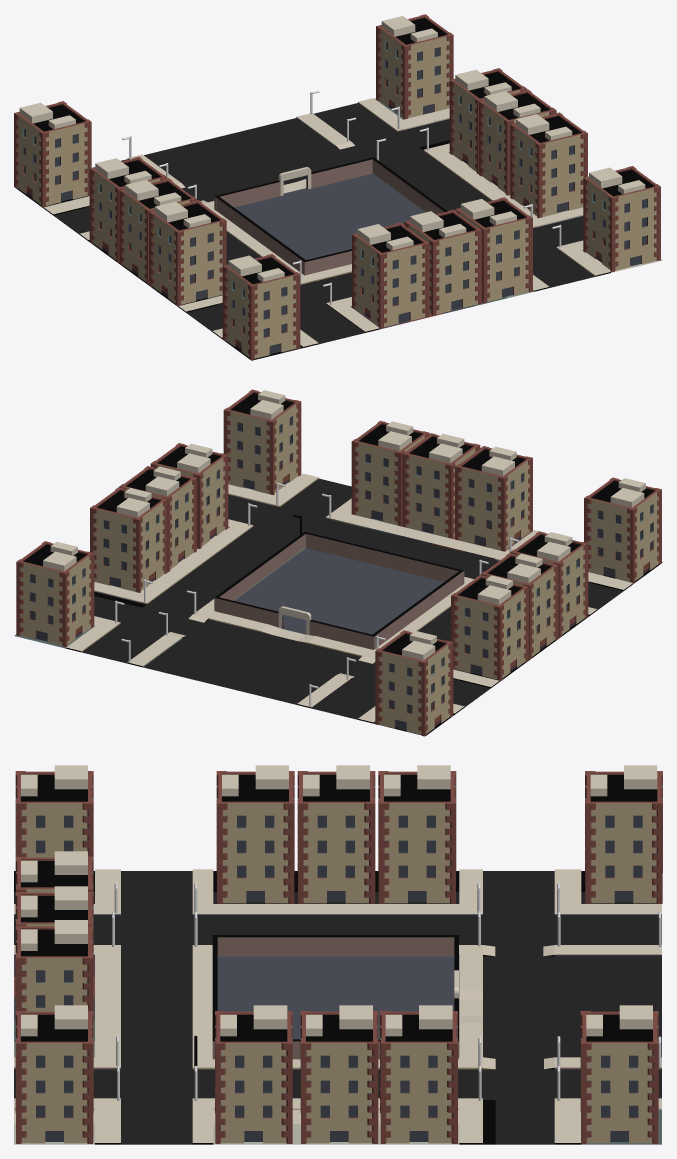
The model's file is Escape room enviornment.glb.
3 views of the same model, one above another, from view 1: azimuth 30°, elevation 25°; view 2: azimuth 150°, elevation 25°; view 3: azimuth 270°, elevation 25° (orthographic). The views are drawn at different scales.
Parts seen in each view (by area): view 1: Plane, Cube.010, Cube.015, Cube.007, Cube.005, Cube.011, Cube.014, Cube.003, Cube.002, Cube.009, Cube.008, Cube.012 (+3 smaller); view 2: Plane, Cube.002, Cube.003, Cube.005, Cube.015, Cube.016, Cube.007, Cube.010, Cube.006, Cube.009, Cube.008, Cube.014 (+3 smaller); view 3: Plane, Cube.012, Cube.007, Cube.011, Cube.013, Cube.016, Cube.003, Cube.014, Cube.006, Cube.005, Cube.010, Cube.008 (+3 smaller).
Boxes of the visible parts, x1=… form: Plane: x1=14, y1=98, x2=662, y2=360; Cube.010: x1=222, y1=254, x2=300, y2=359; Cube.015: x1=352, y1=222, x2=429, y2=328; Cube.007: x1=583, y1=166, x2=660, y2=271; Cube.005: x1=14, y1=101, x2=91, y2=207; Cube.011: x1=149, y1=200, x2=226, y2=305; Cube.014: x1=510, y1=112, x2=587, y2=218; Cube.003: x1=376, y1=14, x2=453, y2=119; Cube.002: x1=214, y1=157, x2=447, y2=275; Cube.009: x1=404, y1=209, x2=481, y2=315; Cube.008: x1=455, y1=197, x2=532, y2=303; Cube.012: x1=479, y1=89, x2=556, y2=195; Plane: x1=14, y1=473, x2=662, y2=735; Cube.002: x1=214, y1=532, x2=464, y2=649; Cube.003: x1=16, y1=541, x2=94, y2=647; Cube.005: x1=375, y1=630, x2=453, y2=736; Cube.015: x1=455, y1=446, x2=532, y2=551; Cube.016: x1=451, y1=575, x2=528, y2=680; Cube.007: x1=223, y1=389, x2=301, y2=495; Cube.010: x1=584, y1=477, x2=661, y2=583; Cube.006: x1=90, y1=487, x2=167, y2=592; Cube.009: x1=402, y1=433, x2=480, y2=538; Cube.008: x1=351, y1=420, x2=429, y2=526; Cube.014: x1=150, y1=443, x2=228, y2=548; Plane: x1=14, y1=869, x2=661, y2=1144; Cube.012: x1=300, y1=1005, x2=378, y2=1143; Cube.007: x1=15, y1=1005, x2=93, y2=1143; Cube.011: x1=216, y1=765, x2=294, y2=903; Cube.013: x1=297, y1=765, x2=375, y2=903; Cube.016: x1=378, y1=765, x2=456, y2=903; Cube.003: x1=580, y1=1005, x2=658, y2=1143; Cube.014: x1=215, y1=1005, x2=292, y2=1143; Cube.006: x1=380, y1=1005, x2=457, y2=1143; Cube.005: x1=585, y1=765, x2=662, y2=903; Cube.010: x1=15, y1=765, x2=93, y2=857; Cube.008: x1=15, y1=920, x2=93, y2=1011.
Size of the model in its own units: 268 by 49.36 by 268.
1 material, 1 textured.
